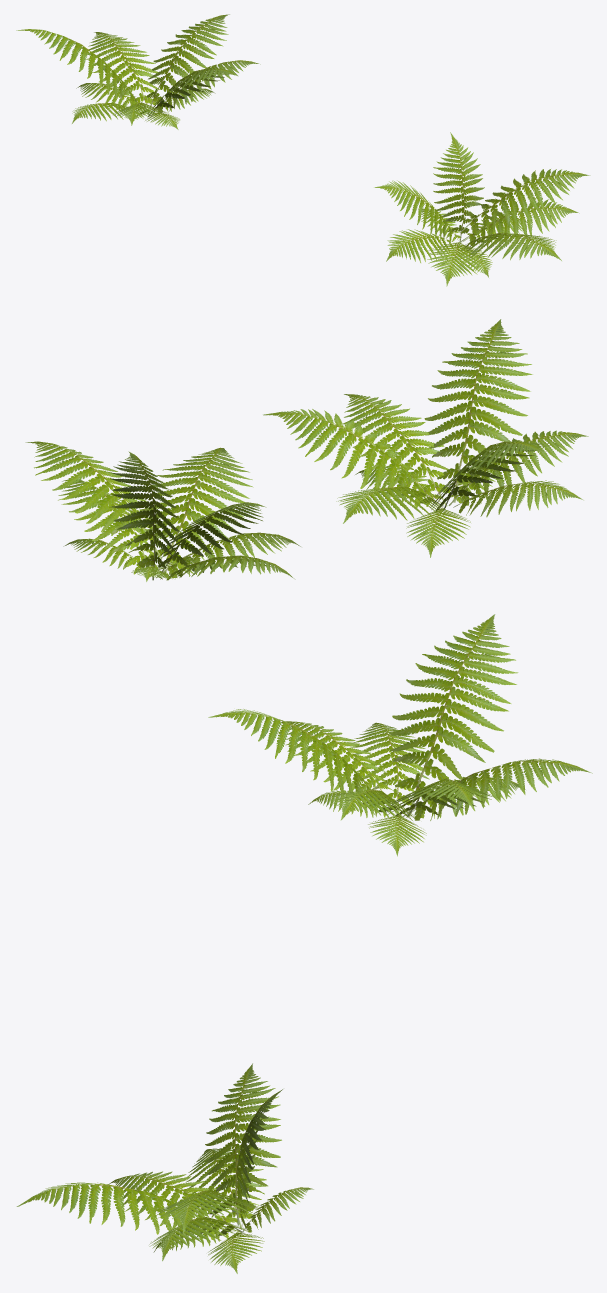
Rendered from plants.glb.
3 views of the same model, one above another, from view 1: azimuth 30°, elevation 25°; view 2: azimuth 150°, elevation 25°; view 3: azimuth 270°, elevation 25° (orthographic). The views are drawn at different scales.
Visible parts, largest first — view 1: Tree_0_Tree_0Mat_0, Tree_0_Tree_0Mat_0.001; view 2: Tree_0_Tree_0Mat_0.001, Tree_0_Tree_0Mat_0; view 3: Tree_0_Tree_0Mat_0.001, Tree_0_Tree_0Mat_0.
Boxes of the visible parts, left/top/right/bottom form: Tree_0_Tree_0Mat_0: left=374, top=132, right=590, bottom=286; Tree_0_Tree_0Mat_0.001: left=16, top=14, right=260, bottom=129; Tree_0_Tree_0Mat_0.001: left=263, top=319, right=588, bottom=557; Tree_0_Tree_0Mat_0: left=25, top=441, right=300, bottom=581; Tree_0_Tree_0Mat_0.001: left=208, top=614, right=592, bottom=856; Tree_0_Tree_0Mat_0: left=16, top=1063, right=313, bottom=1273.
Size of the model in its own units: 5.1 by 2.59 by 3.58.
Materials: 1 (1 with a texture image).
